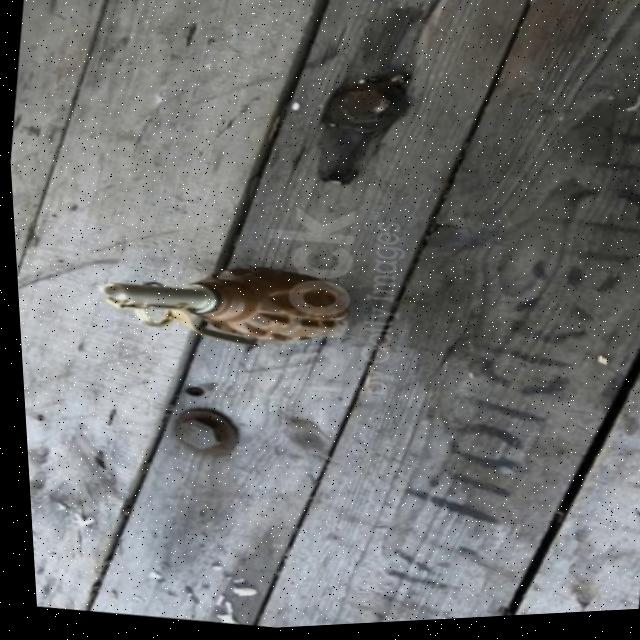grenade: (90, 240, 368, 374)
